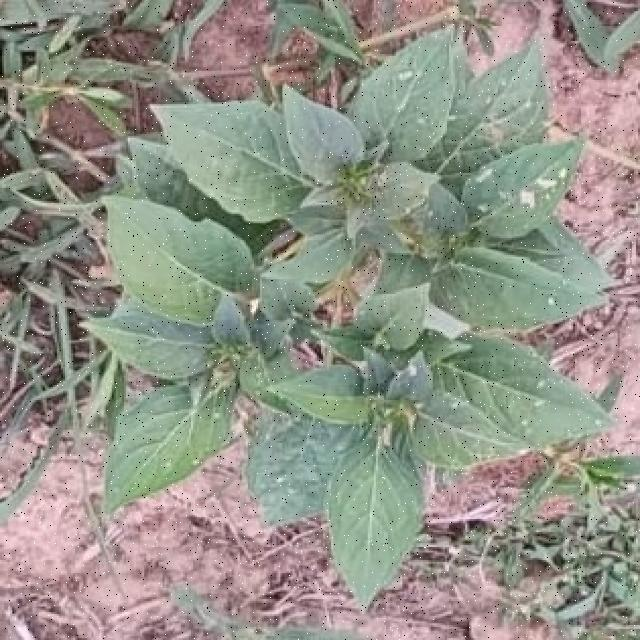weed: (85, 30, 610, 606)
